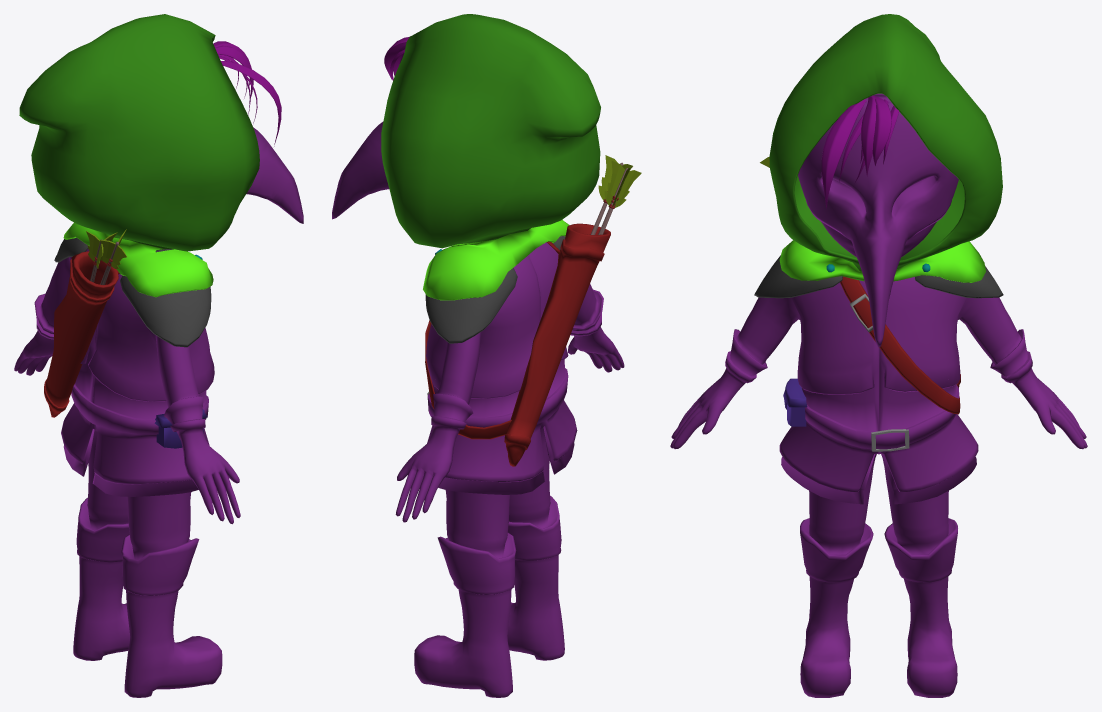
The model's file is seiri_LowPoly_UVS_Carcaj.fbx.
3 views of the same model, side by side, from view 1: azimuth 30°, elevation 25°; view 2: azimuth 150°, elevation 25°; view 3: azimuth 270°, elevation 25° (orthographic).
Visible parts, largest first — view 1: Seiri-Model_UVS; view 2: Seiri-Model_UVS; view 3: Seiri-Model_UVS.
Part boxes in pixels (box(x1,y1,x2,y2)): Seiri-Model_UVS: box(14, 14, 303, 697); Seiri-Model_UVS: box(332, 14, 641, 697); Seiri-Model_UVS: box(670, 14, 1087, 697).
Size of the model in its own units: 28.7 by 66.01 by 38.21.
